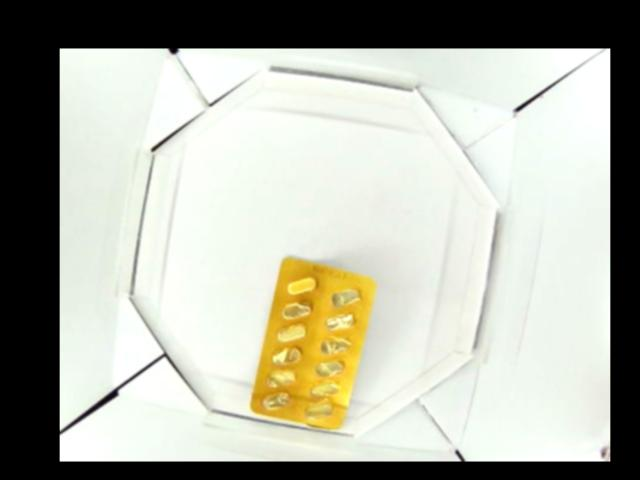Medicine: (248, 253, 375, 432)
